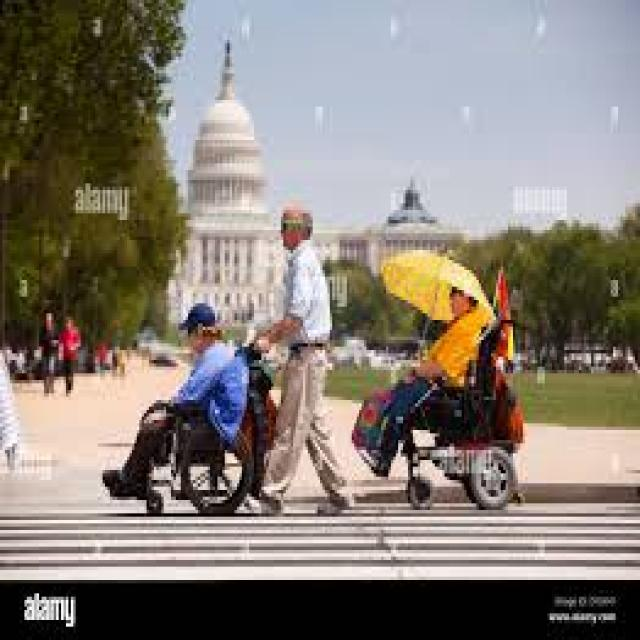wheelchairs: (129, 397, 276, 530)
